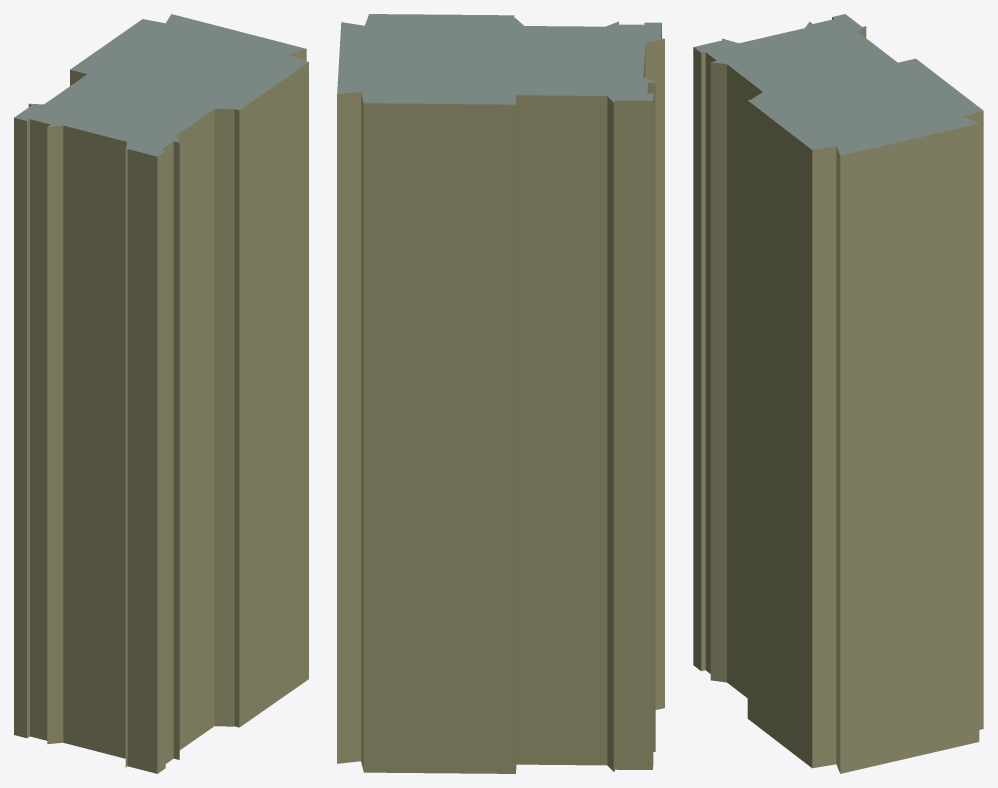
File: nyc-1024714-0.glb
The picture shows the model from 3 angles, left to right: view 1: azimuth 30°, elevation 25°; view 2: azimuth 150°, elevation 25°; view 3: azimuth 270°, elevation 25°; orthographic projection. The views are drawn at different scales.
Visible parts, largest first — view 1: nyc-1024714-0; view 2: nyc-1024714-0; view 3: nyc-1024714-0.
Part boxes in pixels (x1,y1,x2,y2): nyc-1024714-0: (14, 14, 308, 773); nyc-1024714-0: (337, 14, 664, 773); nyc-1024714-0: (693, 14, 983, 773).
Bounding box in the file's own units: 105 × 214 × 90.81.
